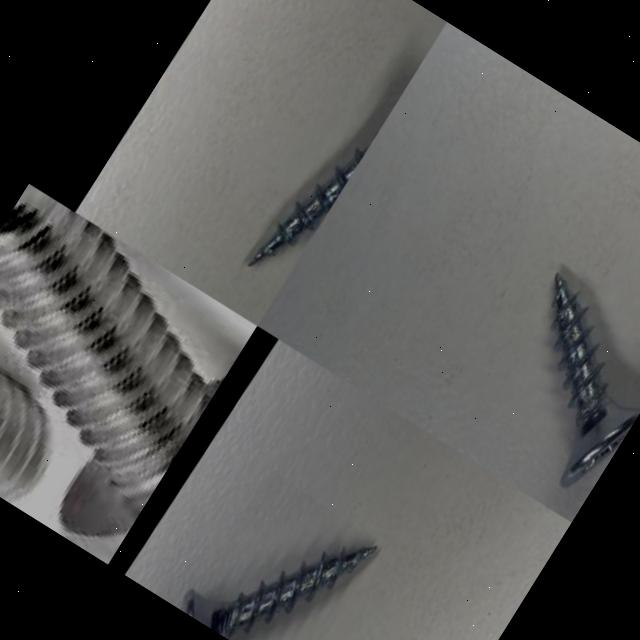Screw: (0, 183, 227, 545), (550, 274, 640, 489), (180, 547, 374, 639), (247, 135, 376, 267), (0, 363, 55, 501)
